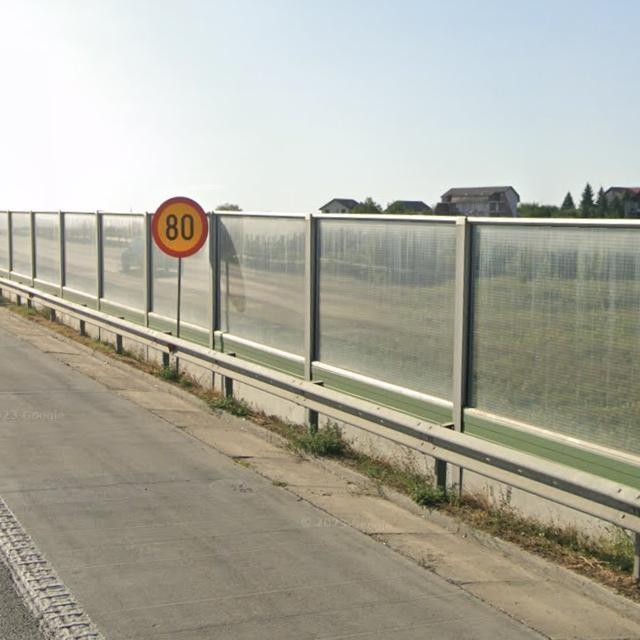forb_speed_over_80: (151, 197, 209, 259)
